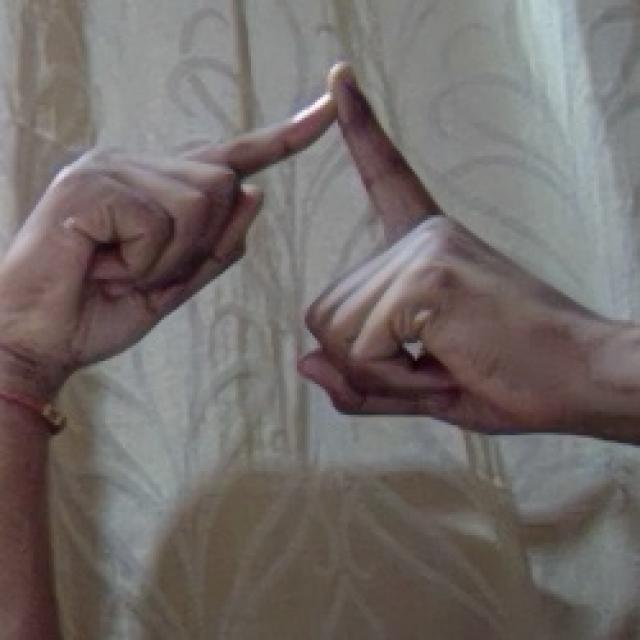Alphabet-E: (0, 64, 640, 640)
